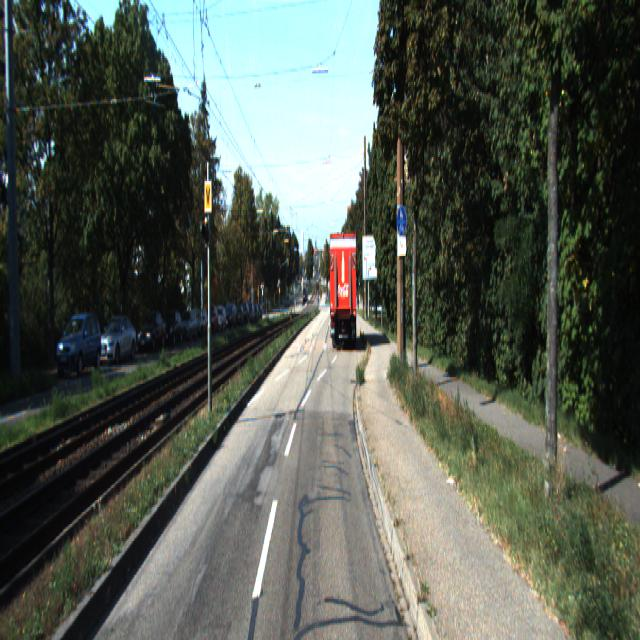Car: (327, 232, 358, 353), (55, 311, 104, 380), (95, 313, 137, 366), (136, 310, 167, 354), (160, 306, 182, 346), (178, 306, 198, 341), (204, 305, 219, 335)
